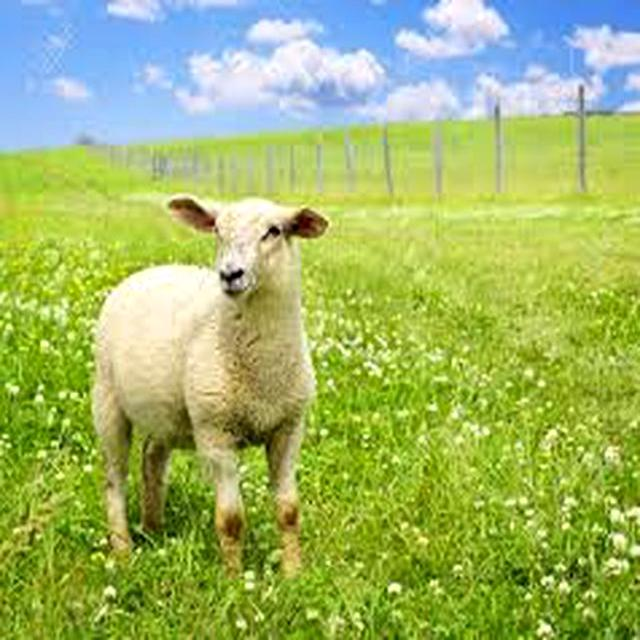sheep: (86, 192, 332, 580)
